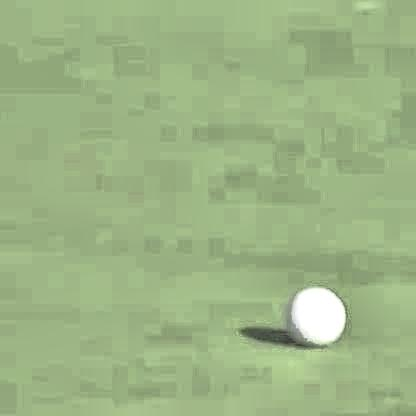golfball: (284, 279, 343, 344)
